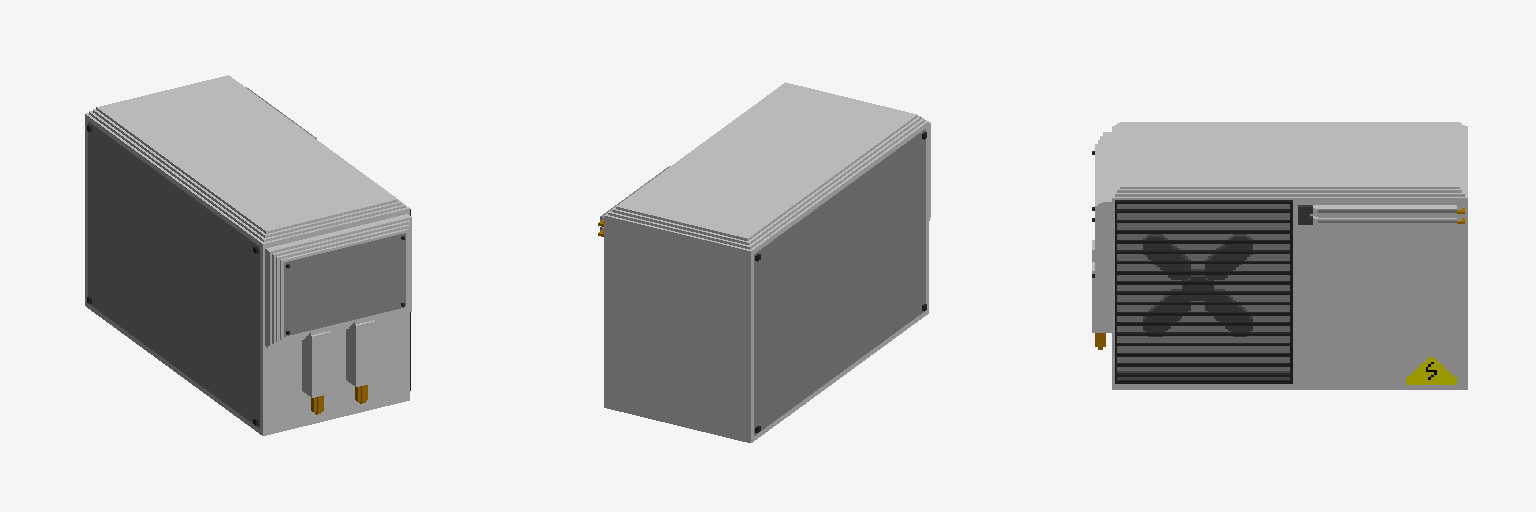
The picture shows the model from 3 angles: view 1: azimuth 30°, elevation 25°; view 2: azimuth 150°, elevation 25°; view 3: azimuth 270°, elevation 25°; orthographic projection.
Visible parts, largest first — view 1: object 1; view 2: object 1; view 3: object 1.
Part boxes in pixels (bbox=[...]): object 1: bbox=[85, 75, 411, 435]; object 1: bbox=[598, 82, 930, 442]; object 1: bbox=[1092, 122, 1467, 389].
Bounding box in the file's own units: 6.5 × 7.8 × 13.3.
1 materials, 1 textured.